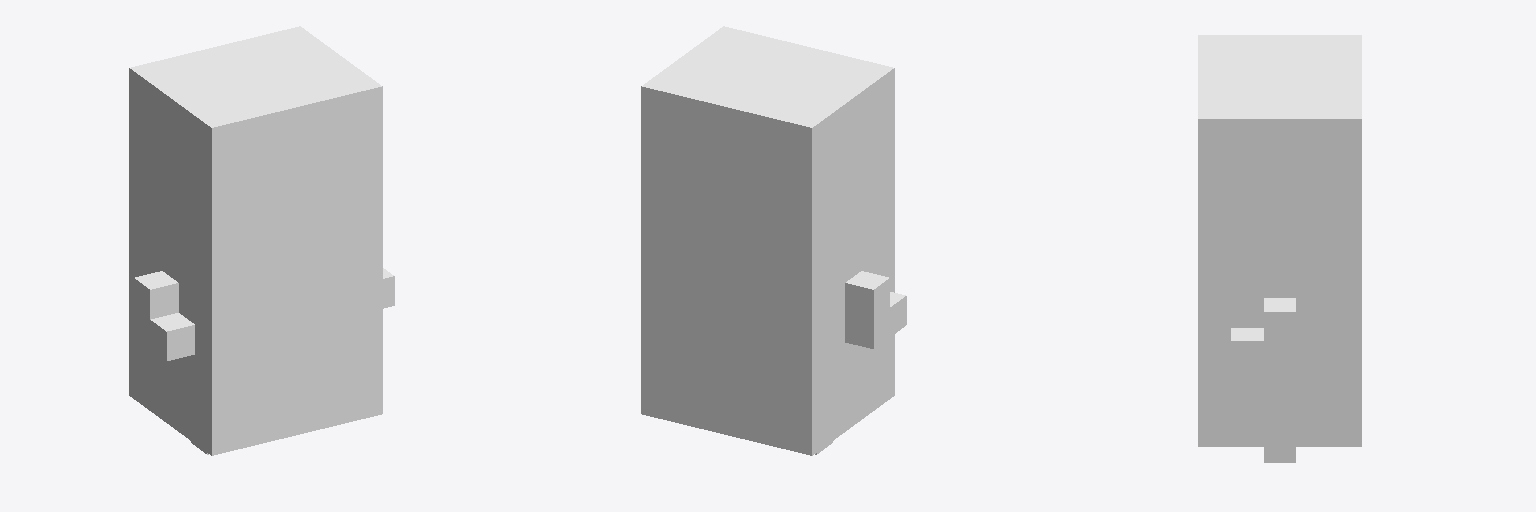
File: ama03-0.obj
3 views of the same model, side by side, from view 1: azimuth 30°, elevation 25°; view 2: azimuth 150°, elevation 25°; view 3: azimuth 270°, elevation 25° (orthographic).
Visible parts, largest first — view 1: ama03-0; view 2: ama03-0; view 3: ama03-0.
Boxes of the visible parts, x1,y1,x2,y2 form: ama03-0: [129, 26, 394, 455]; ama03-0: [641, 26, 906, 455]; ama03-0: [1198, 35, 1361, 462].
Size of the model in its own units: 8 by 12 by 5.